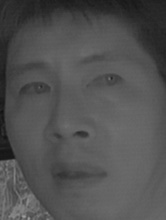eye: (86, 69, 128, 94), (15, 79, 52, 101)
mouth: (48, 159, 109, 191)
